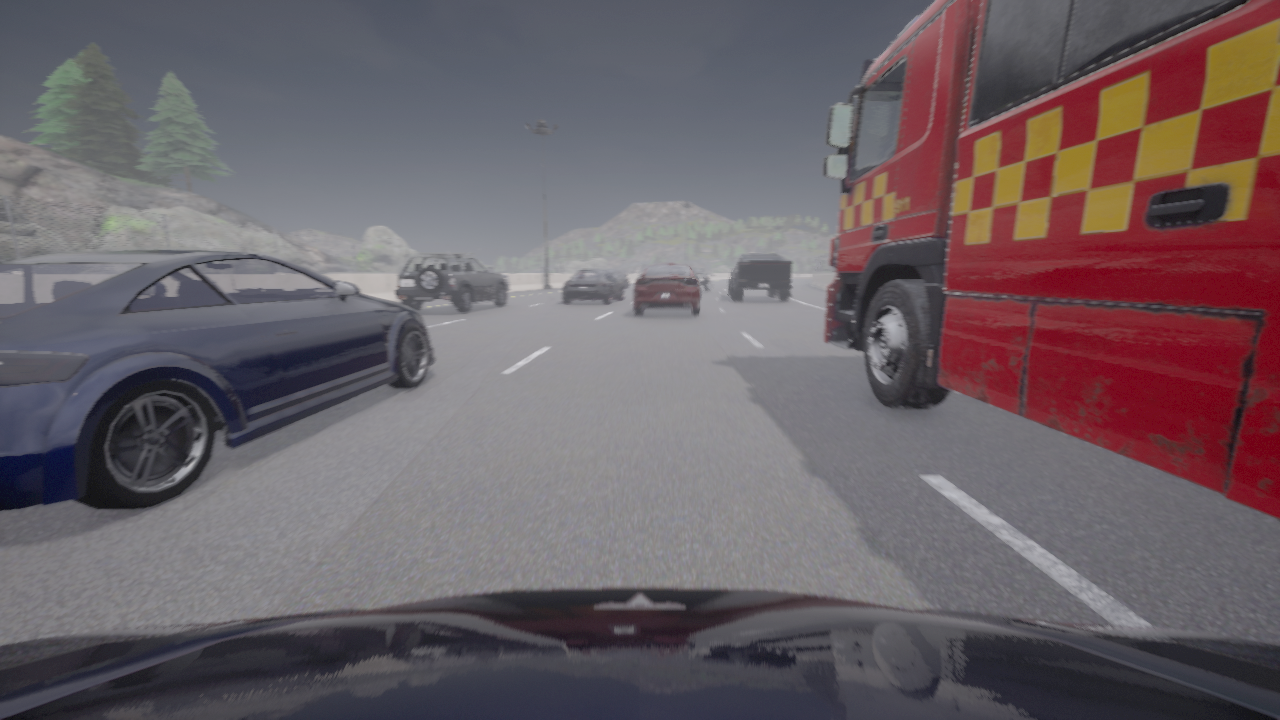cyclist: (823, 0, 1279, 520), (0, 588, 1279, 719), (0, 249, 434, 511), (394, 253, 509, 312), (634, 263, 702, 315), (729, 254, 791, 301), (561, 269, 624, 303), (693, 269, 713, 292), (606, 269, 628, 288)
